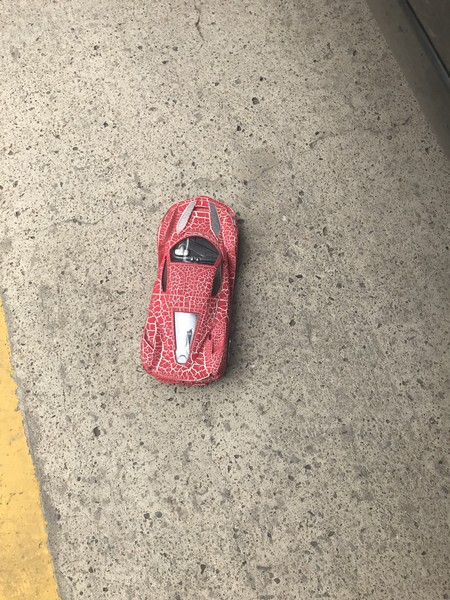RC: (138, 193, 240, 387)
